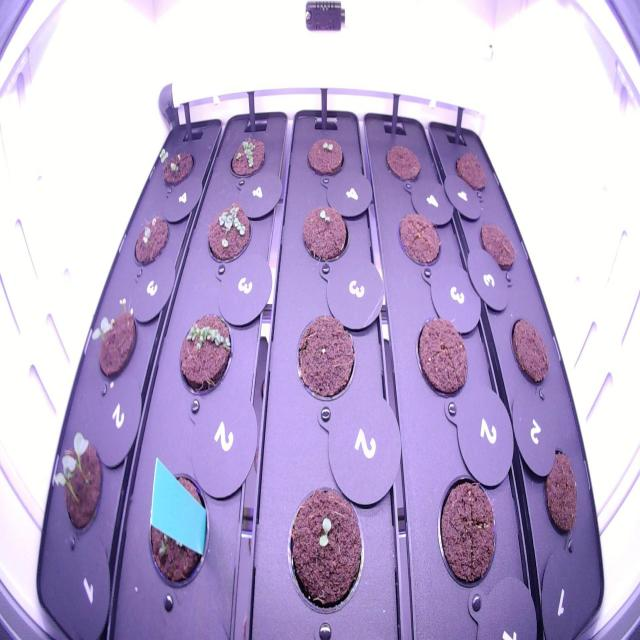germination: (278, 477, 371, 624), (136, 458, 219, 596), (41, 423, 113, 546), (170, 304, 237, 402), (84, 289, 144, 384), (201, 194, 257, 276), (296, 193, 354, 270), (128, 208, 174, 270), (222, 128, 270, 186), (302, 128, 348, 182), (153, 140, 198, 193)
pod: (434, 464, 504, 595), (288, 306, 360, 412), (410, 306, 474, 408), (537, 434, 586, 545), (504, 310, 554, 392), (390, 205, 446, 278), (476, 211, 520, 279), (378, 136, 428, 190), (451, 144, 494, 199)
